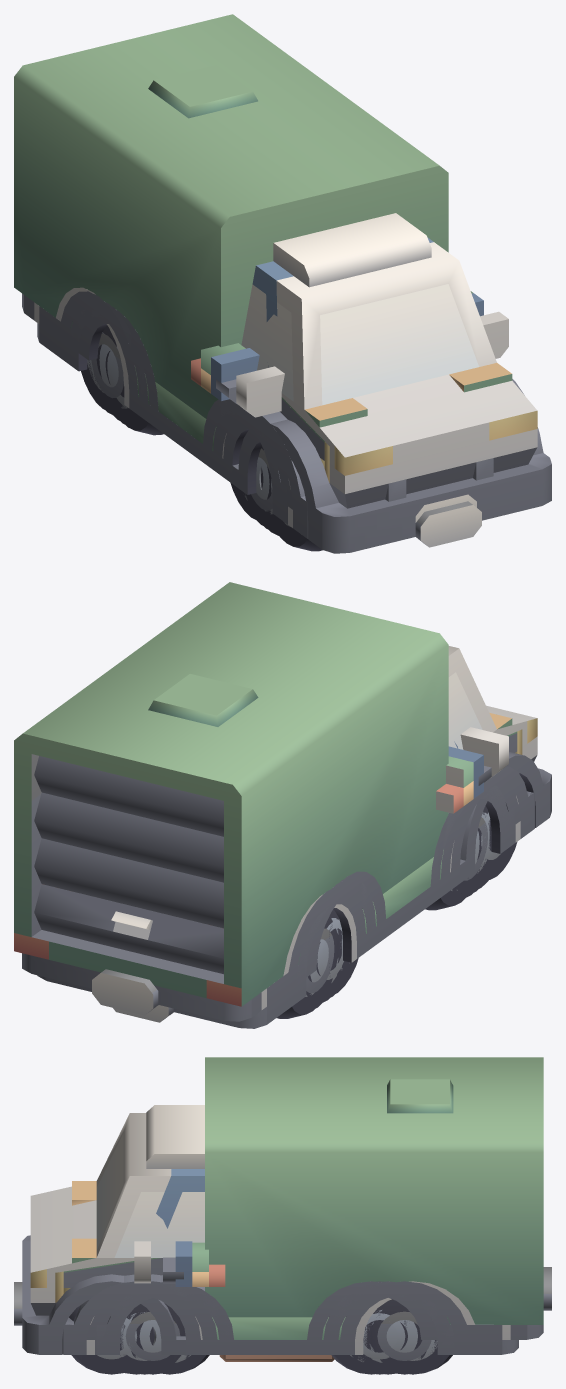
File: vehicles.glb
3 renders of one model, top to bottom at view 1: azimuth 30°, elevation 25°; view 2: azimuth 150°, elevation 25°; view 3: azimuth 270°, elevation 25°, orthographic. The views are drawn at different scales.
Visible parts, largest first — view 1: body (×9), wheel-back-right (×3), grill; view 2: body (×8), door, wheel-back-right (×2), wheel-front-right; view 3: body (×9), wheel-back-left (×5), wheel-front-left (×5), box.
Boxes of the visible parts, box(x1,y1,x2,y2) form: body (×9): box(14, 14, 551, 553); wheel-back-right (×3): box(81, 325, 138, 423); grill: box(385, 458, 493, 522); body (×8): box(14, 582, 551, 1028); door: box(34, 756, 223, 974); wheel-back-right (×2): box(284, 917, 338, 1016); wheel-front-right: box(456, 806, 496, 894); body (×9): box(14, 1057, 551, 1354); wheel-back-left (×5): box(331, 1299, 451, 1374); wheel-front-left (×5): box(69, 1303, 209, 1374); box: box(219, 1355, 334, 1361).
Size of the model in its own units: 1.5 by 1.65 by 3.25.
Materials: 1 (1 with a texture image).
